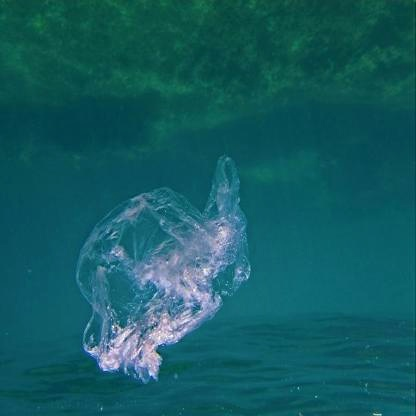pbag: (75, 154, 252, 385)
